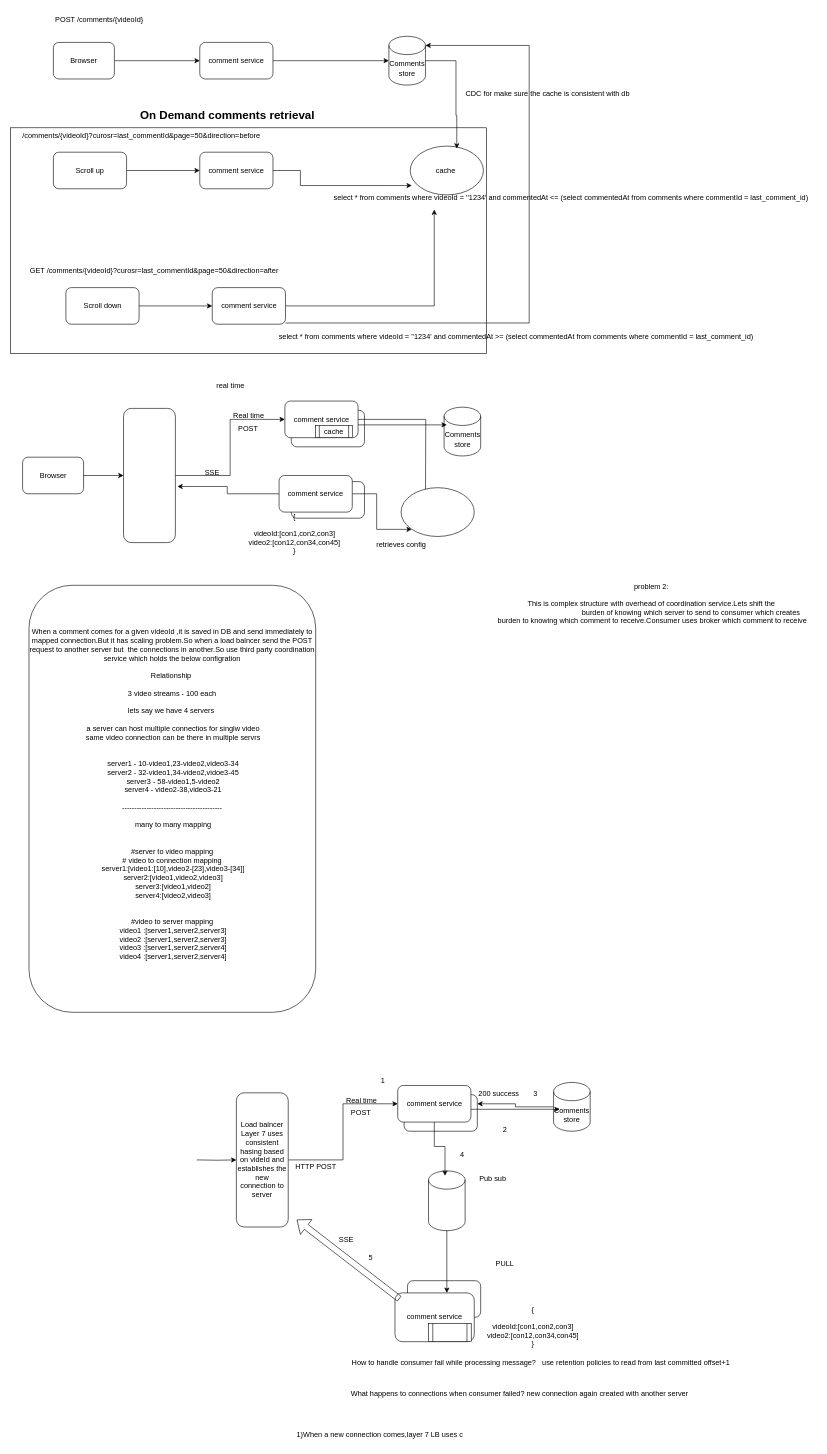
This 827x1454 diagram has some shape labels left out. Here are the shapes that lost their labels. From the top down, the box of each, then its label:
(123, 408, 175, 543): Load balncer
(400, 487, 474, 536): Cordination service
(428, 1323, 471, 1342): connection
